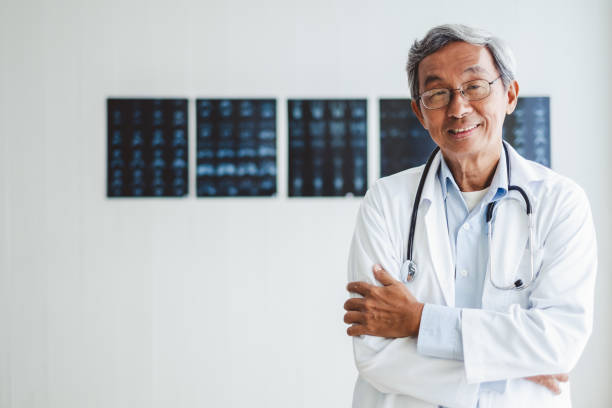hand: (342, 264, 419, 343), (509, 344, 569, 395)
